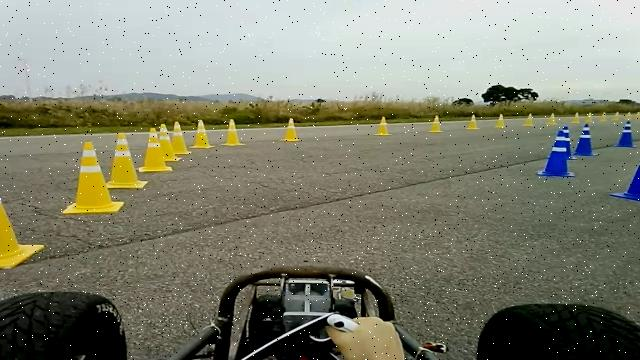blue cone: (541, 131, 576, 177), (610, 158, 640, 202), (573, 123, 599, 156), (554, 125, 578, 160), (614, 120, 638, 148)
yellow cone: (62, 140, 124, 214), (0, 198, 46, 269), (106, 132, 148, 189), (139, 127, 173, 172), (158, 123, 181, 162), (190, 119, 216, 149), (221, 118, 246, 146), (172, 120, 192, 154), (280, 117, 304, 141), (374, 116, 393, 135), (428, 115, 444, 133), (466, 114, 481, 129), (522, 113, 535, 126), (495, 113, 506, 128), (546, 112, 558, 125), (571, 112, 581, 123), (585, 112, 594, 122), (624, 111, 634, 120), (612, 111, 620, 121), (600, 111, 607, 121), (635, 111, 640, 119)
